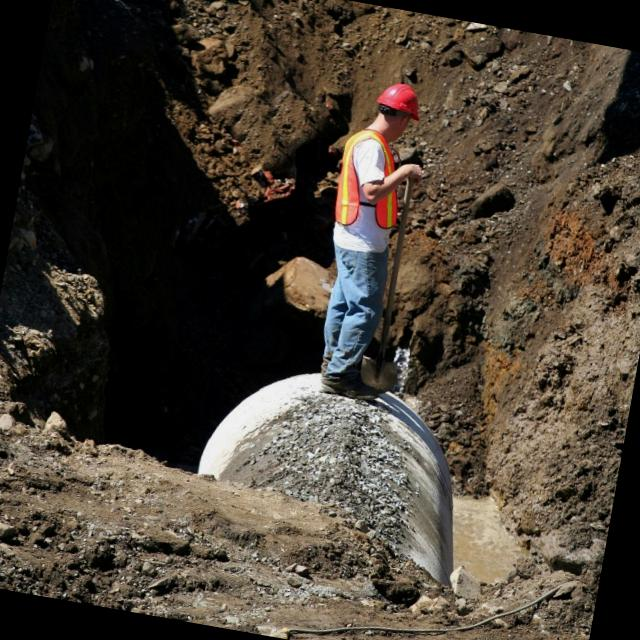helmet: (375, 77, 421, 118)
vest: (325, 122, 412, 238)
